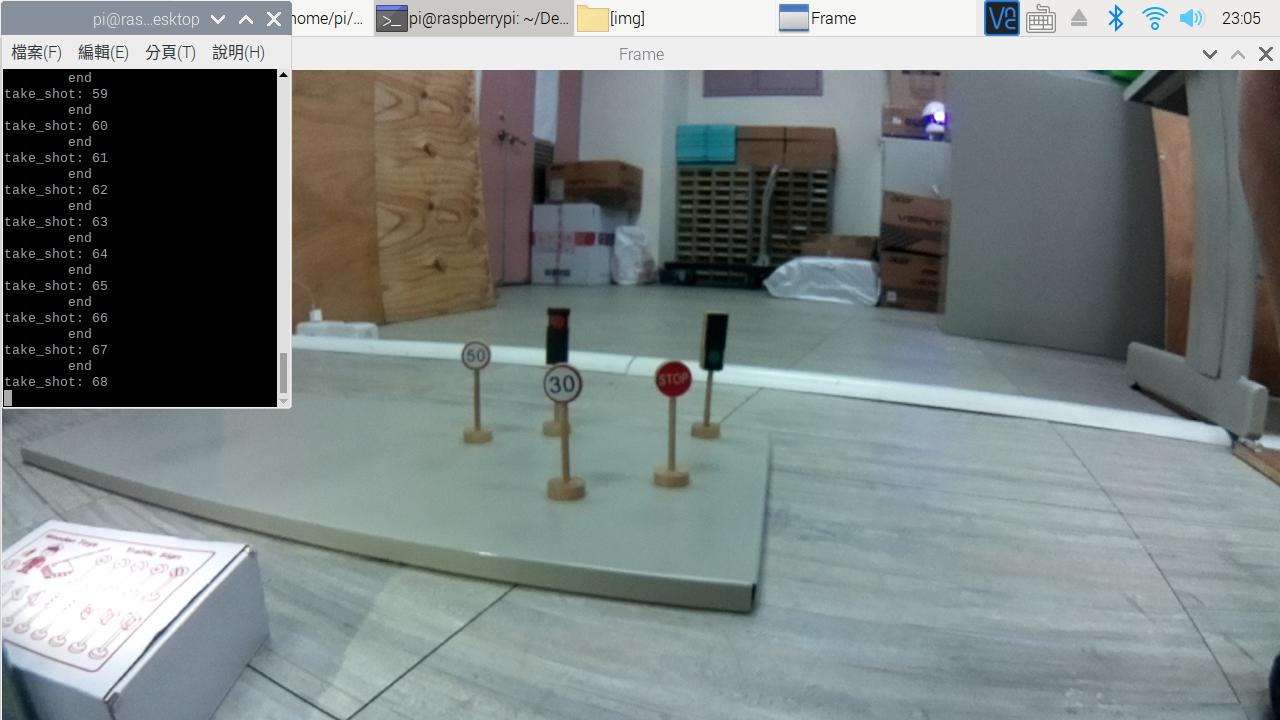Green: (696, 312, 732, 377)
Red: (543, 303, 575, 363)
Speed30: (537, 365, 595, 406)
Speed50: (458, 338, 493, 378)
Stop: (651, 362, 699, 404)
